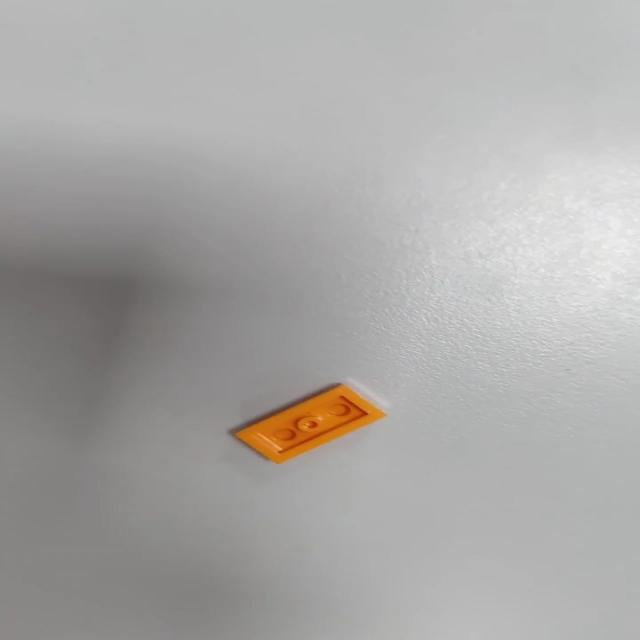C2x1x0: (231, 383, 386, 465)
